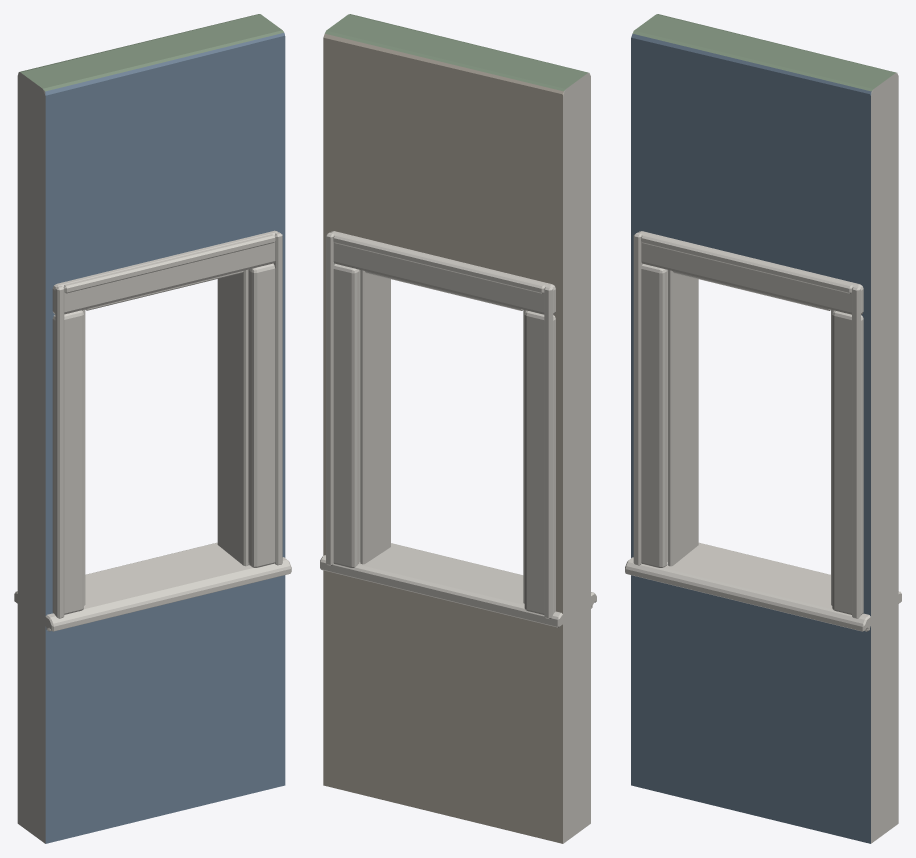
The model's file is SM_Kit_Wall_Window.glb.
3 views of the same model, side by side, from view 1: azimuth 30°, elevation 25°; view 2: azimuth 150°, elevation 25°; view 3: azimuth 330°, elevation 25° (orthographic).
Parts seen in each view (by area): view 1: SM_Kit_Wall_Window; view 2: SM_Kit_Wall_Window; view 3: SM_Kit_Wall_Window.
Part boxes in pixels (left/top/right/bottom): SM_Kit_Wall_Window: left=14, top=14, right=291, bottom=843; SM_Kit_Wall_Window: left=320, top=14, right=596, bottom=843; SM_Kit_Wall_Window: left=625, top=14, right=901, bottom=843.
Size of the model in its own units: 1 by 3 by 0.29.
